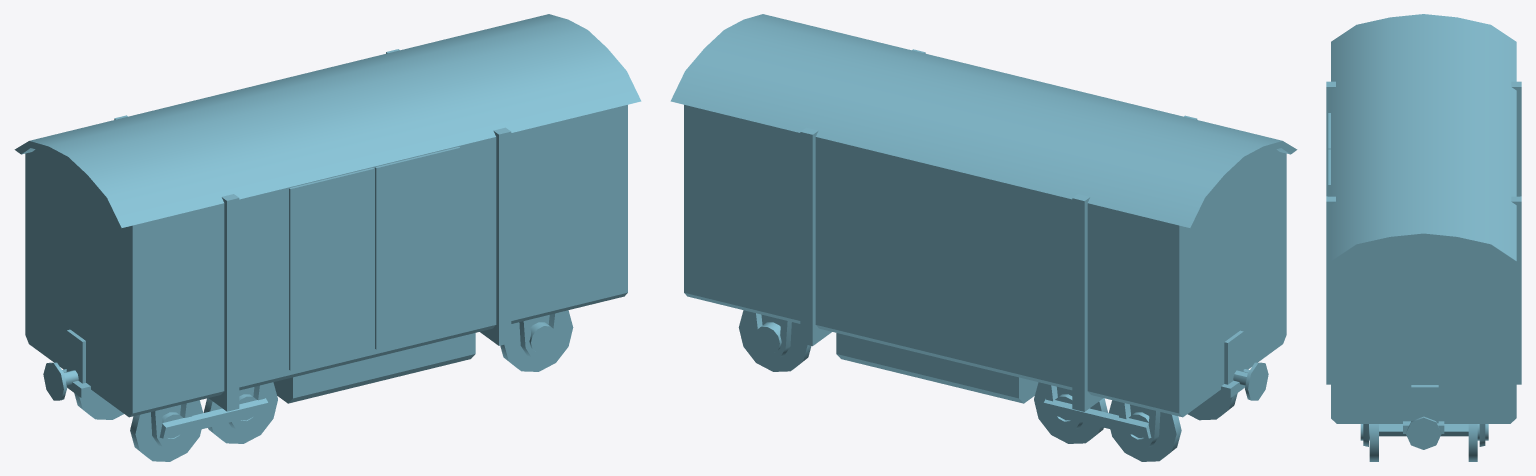
Rendered from Train_Wagon.fbx.
The picture shows the model from 3 angles, left to right: view 1: azimuth 30°, elevation 25°; view 2: azimuth 150°, elevation 25°; view 3: azimuth 270°, elevation 25°; orthographic projection. The views are drawn at different scales.
Parts seen in each view (by area): view 1: Train_Wagon; view 2: Train_Wagon; view 3: Train_Wagon.
Boxes of the visible parts, x1,y1,x2,y2 form: Train_Wagon: (14,14,641,461); Train_Wagon: (670,14,1297,461); Train_Wagon: (1326,14,1521,461).
Bounding box in the file's own units: 722 × 373 × 254.
